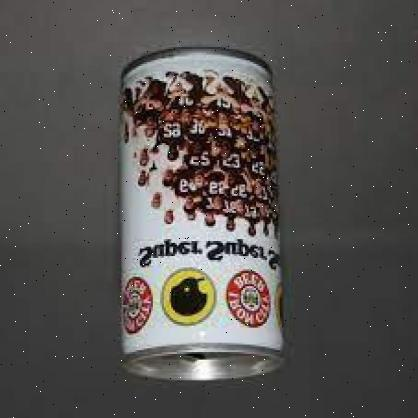can: (114, 51, 282, 382)
